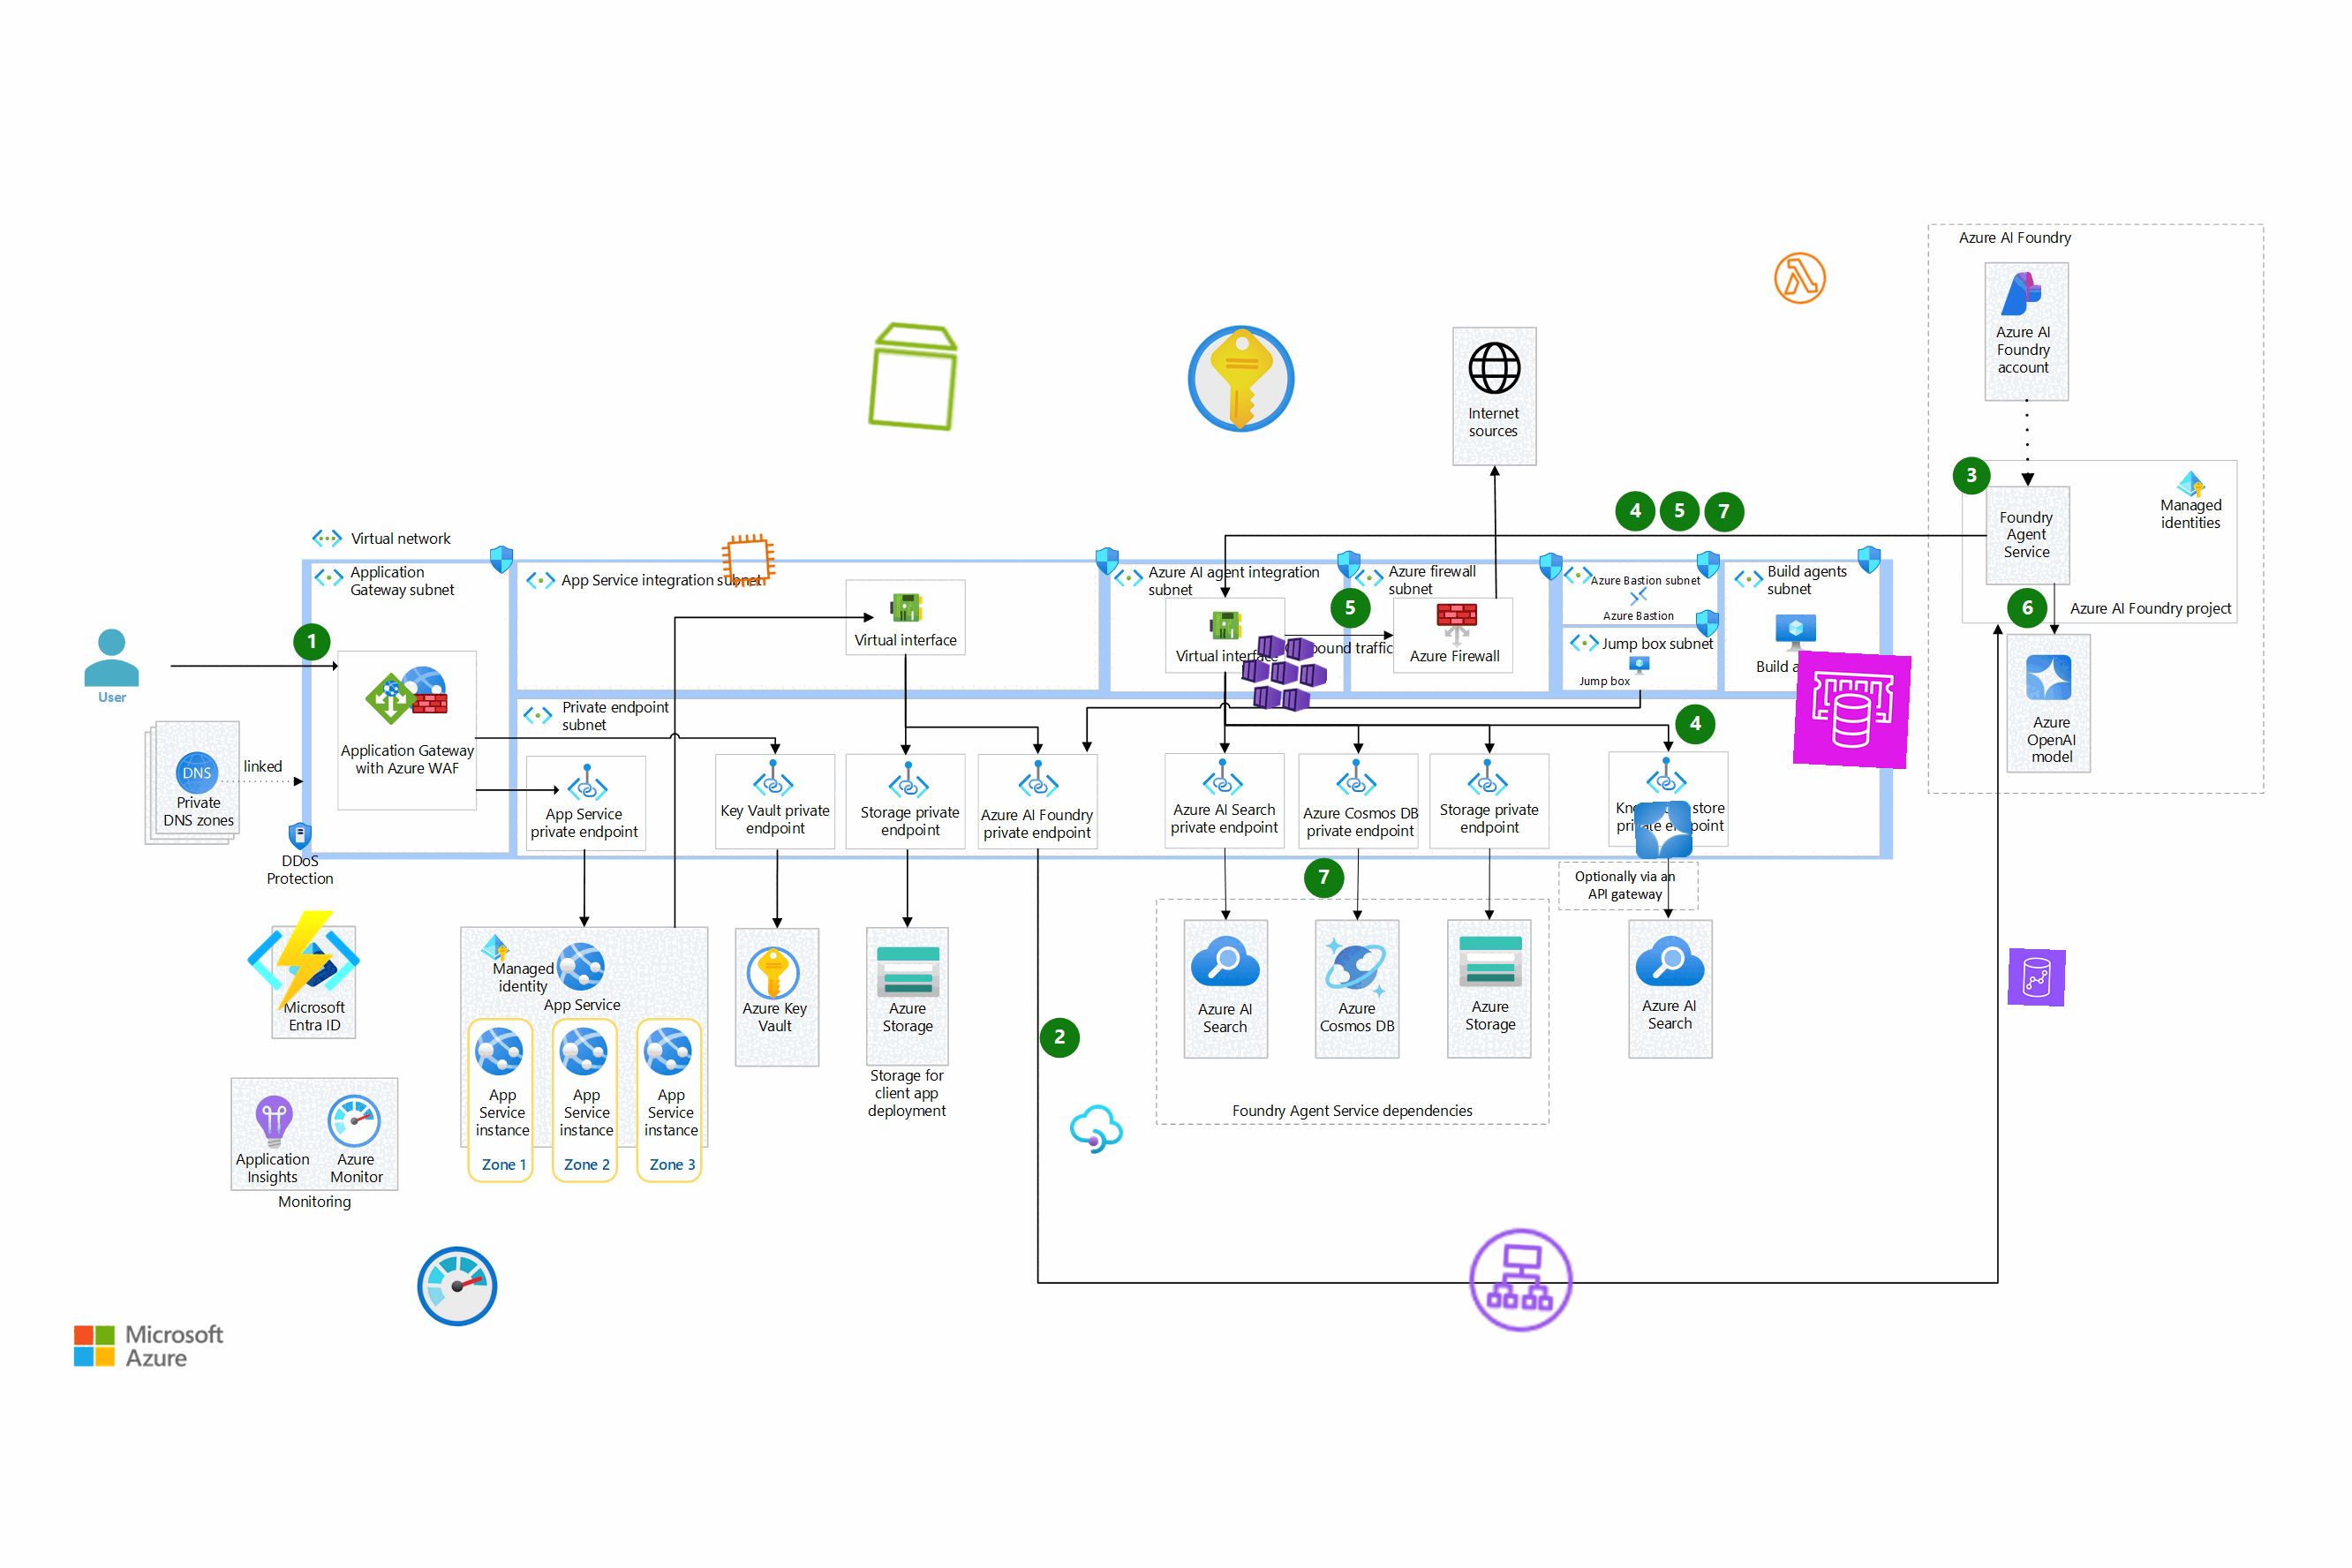aws_amazon_elasticache: (1792, 649, 1913, 770)
aws_amazon_redshift: (2007, 947, 2067, 1008)
aws_ec2_instance: (717, 530, 779, 591)
aws_elastic_block_store_volume: (852, 315, 976, 437)
aws_elastic_load_balancing_application_load_balancer: (1461, 1220, 1582, 1340)
aws_lambda_lambda_function: (1769, 247, 1830, 310)
azure_api_management_services: (1066, 1099, 1127, 1160)
azure_function_apps: (247, 903, 360, 1018)
azure_key_vaults: (1183, 320, 1300, 437)
azure_kubernetes_services: (1239, 626, 1330, 719)
azure_monitor: (413, 1242, 502, 1330)
azure_openai: (1633, 800, 1694, 859)
